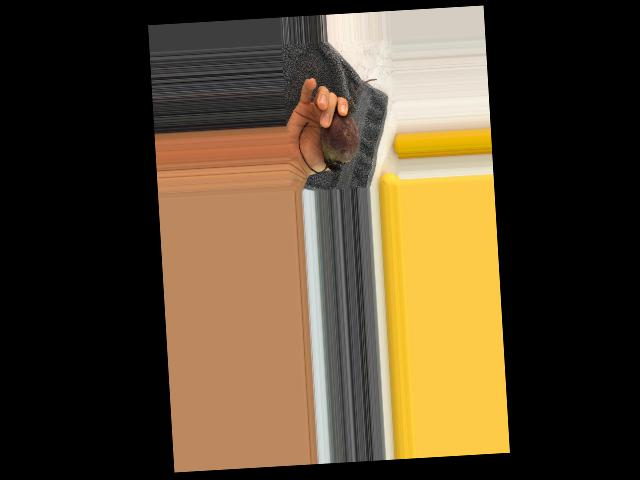beet: (294, 78, 381, 173)
